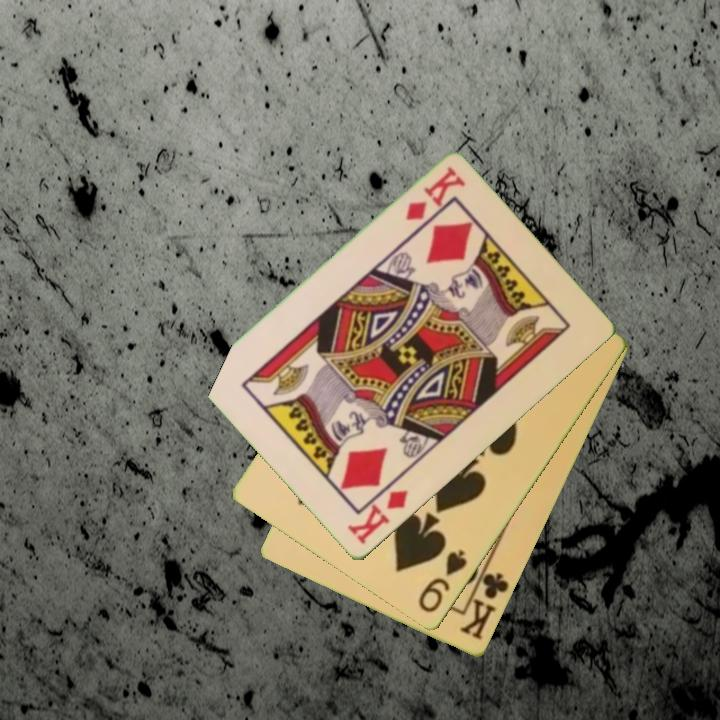9s: (415, 546, 470, 617)
Kc: (456, 561, 513, 643)
Kd: (343, 487, 411, 549), (402, 163, 468, 225)
